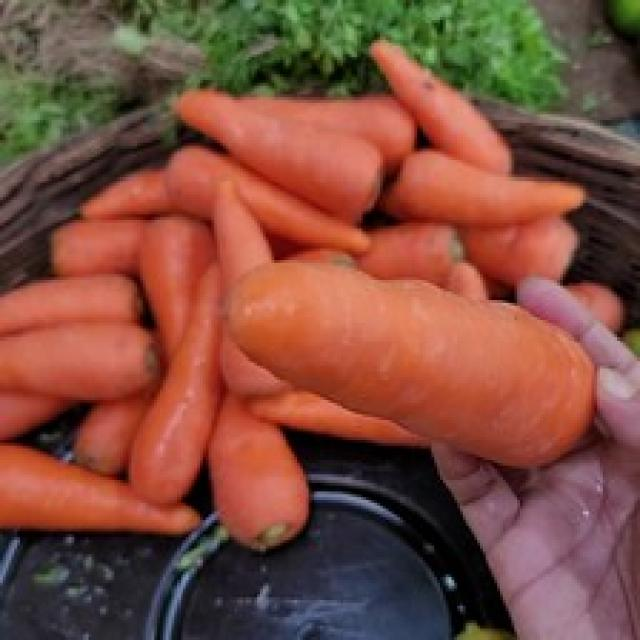Fresh_Carrot: (202, 249, 596, 462)
